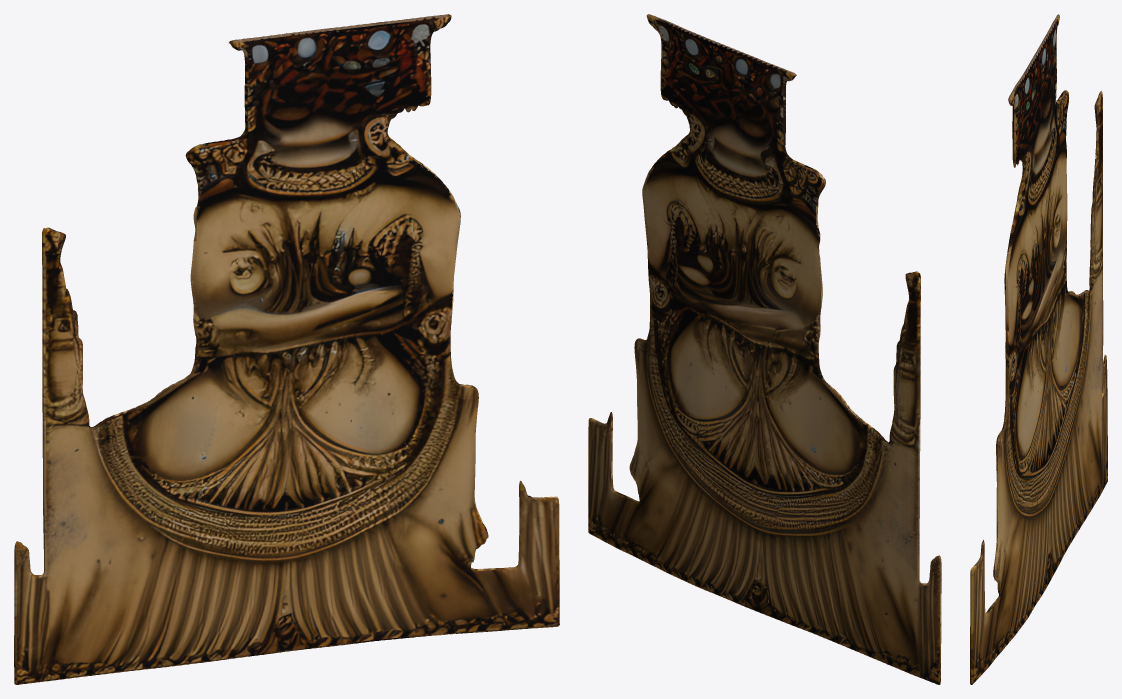
3 views of the same model, side by side, from view 1: azimuth 30°, elevation 25°; view 2: azimuth 150°, elevation 25°; view 3: azimuth 270°, elevation 25° (orthographic). The views are drawn at different scales.
Parts seen in each view (by area): view 1: textured_mesh; view 2: textured_mesh; view 3: textured_mesh.
Boxes of the visible parts, box(x1,y1,x2,y2) form: textured_mesh: box(14, 14, 559, 684); textured_mesh: box(588, 14, 941, 684); textured_mesh: box(970, 14, 1107, 684).
Bounding box in the file's own units: 1.59 × 2 × 0.4534.
1 material, 1 textured.
